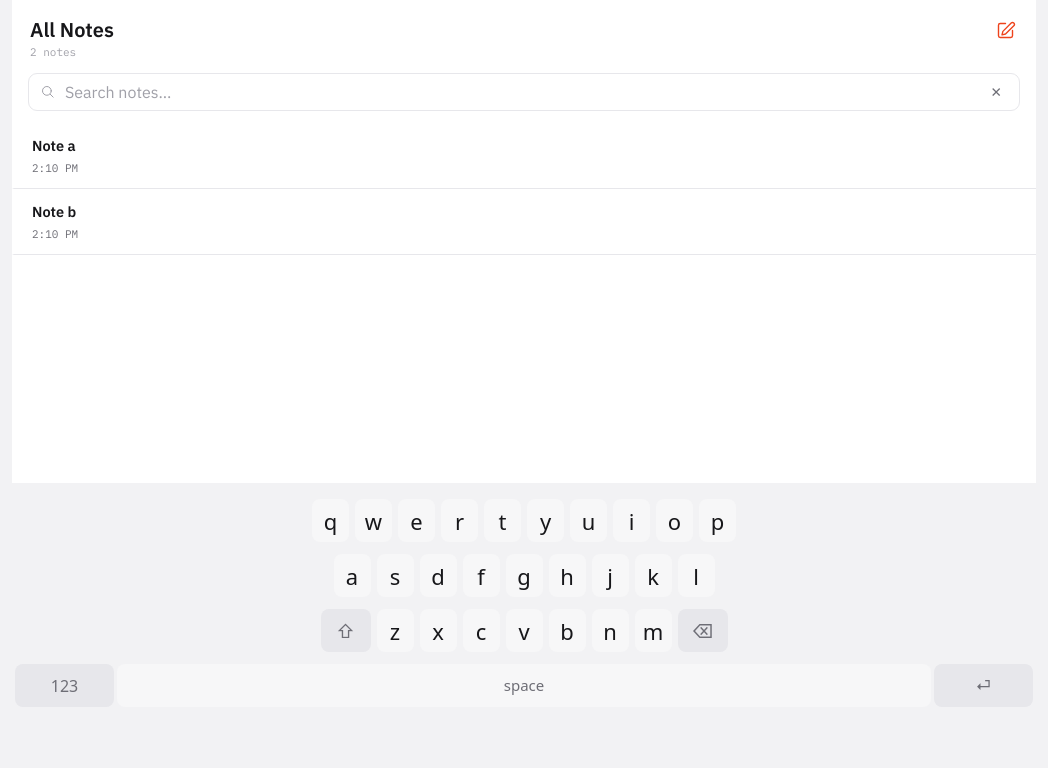
Scenario: HomeView in-place search — keypad mode › typing on the keypad swaps the list for results; a keypad backspace to empty restores the list
The width and height of the screenshot is (1048, 768).
Press the mouse on the button named "G": (524, 576) [502, 548, 546, 603]
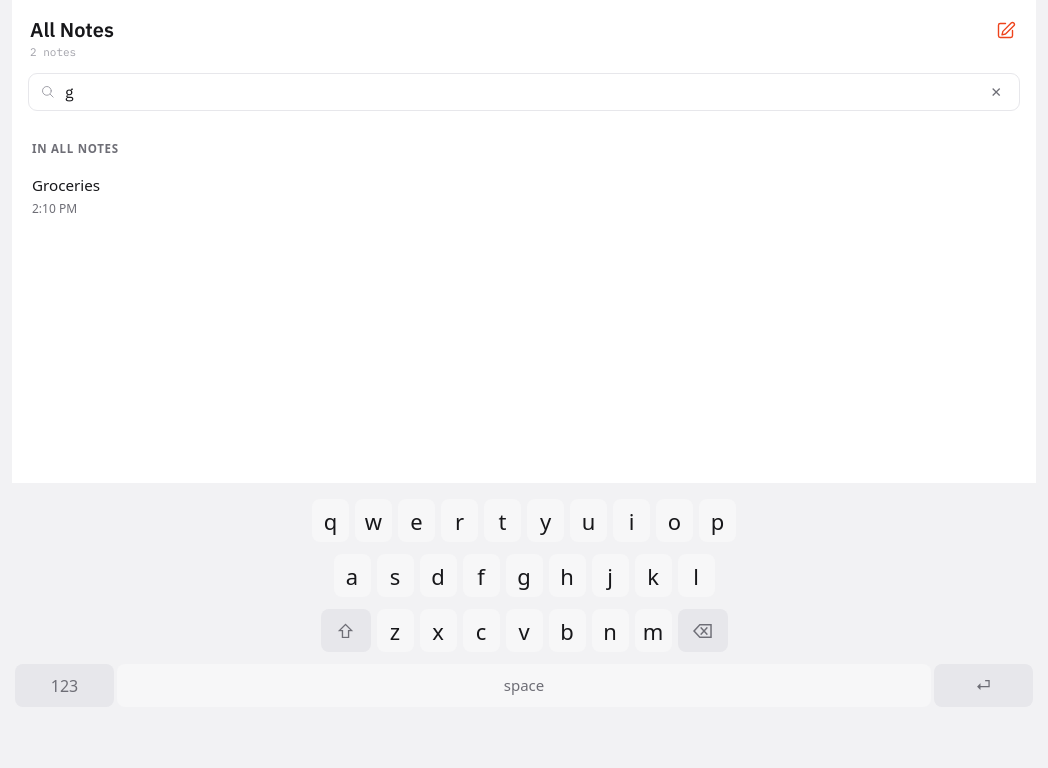
Expected: the list with class "home__notes" is gone
Expected: the text with class "search__row-title" reads "Groceries", [32, 175, 100, 195]
Press the mouse on the button with class "keypad__key--delete": (702, 630) [674, 603, 730, 658]
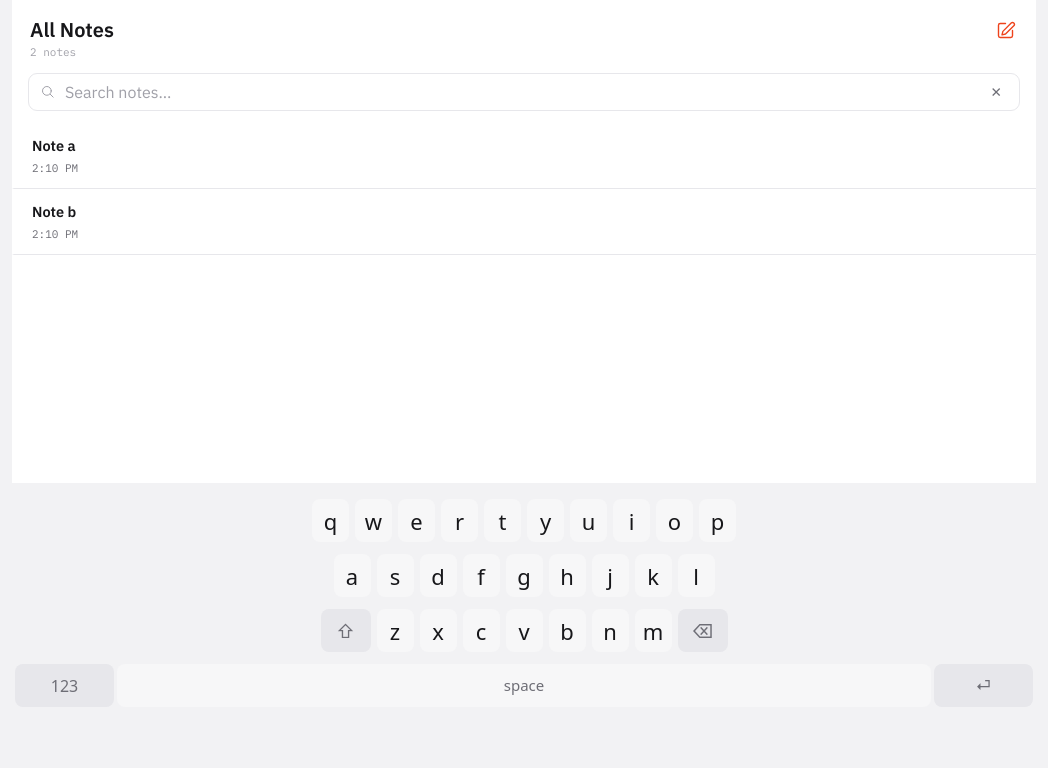
Expected: the search field with class "home__search-input" is shown, [63, 80, 977, 102]
Expected: the list with class "home__notes" is shown, [12, 122, 1036, 263]
Expected: the element with class "search__body" is gone
